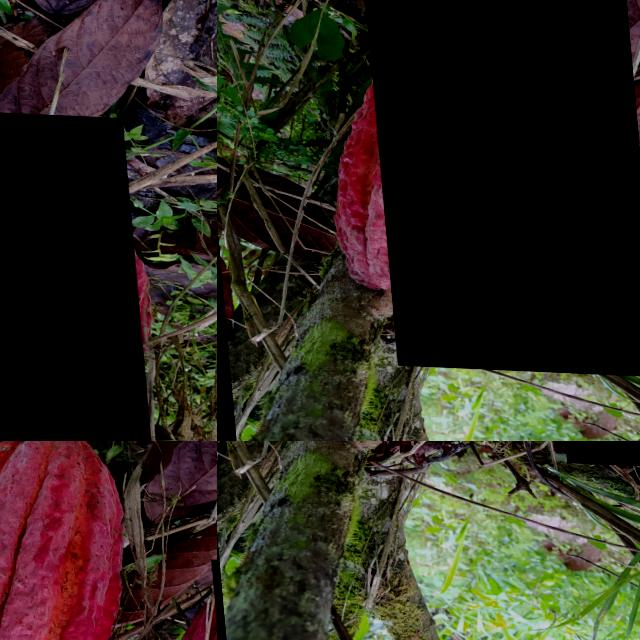Monilia: (359, 0, 640, 373), (0, 104, 145, 441)
